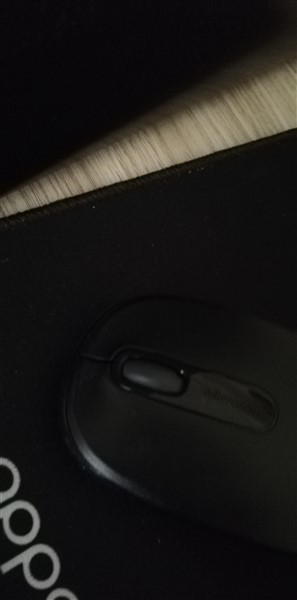mouse: (47, 289, 296, 564)
